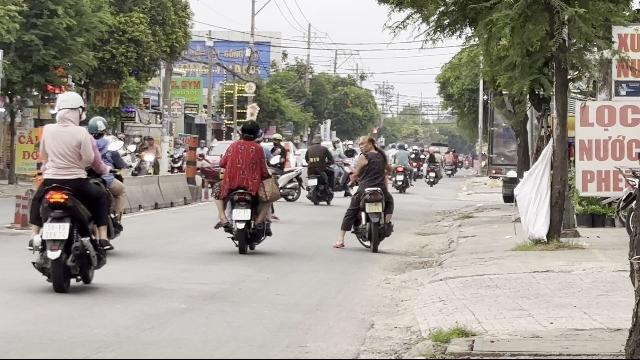helmet: (53, 91, 85, 125), (86, 115, 108, 136)
licenseplate: (42, 222, 70, 240), (232, 209, 252, 219), (366, 202, 382, 212)
motorcyclist: (24, 87, 124, 292), (211, 119, 281, 254), (338, 132, 398, 252), (618, 105, 638, 359)
nohelmet: (237, 120, 259, 140), (358, 136, 377, 154)
